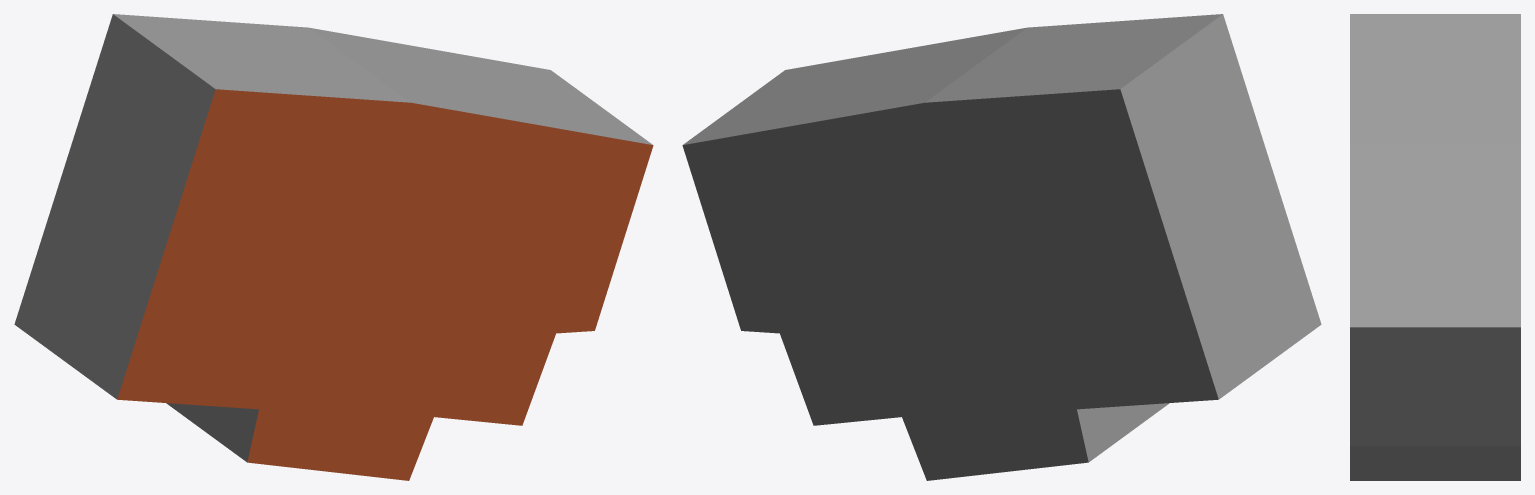
File: construction_0874_assumed_A_Casa_h6m.obj
3 renders of one model, left to right at view 1: azimuth 30°, elevation 25°; view 2: azimuth 150°, elevation 25°; view 3: azimuth 270°, elevation 25°, orthographic. The views are drawn at different scales.
Visible parts, largest first — view 1: construction_0874_assumed_A_Casa; view 2: construction_0874_assumed_A_Casa; view 3: construction_0874_assumed_A_Casa.
Boxes of the visible parts, x1,y1,x2,y2 form: construction_0874_assumed_A_Casa: [14, 14, 653, 480]; construction_0874_assumed_A_Casa: [682, 14, 1321, 480]; construction_0874_assumed_A_Casa: [1350, 14, 1520, 480].
Size of the model in its own units: 18.09 by 14.14 by 6.
